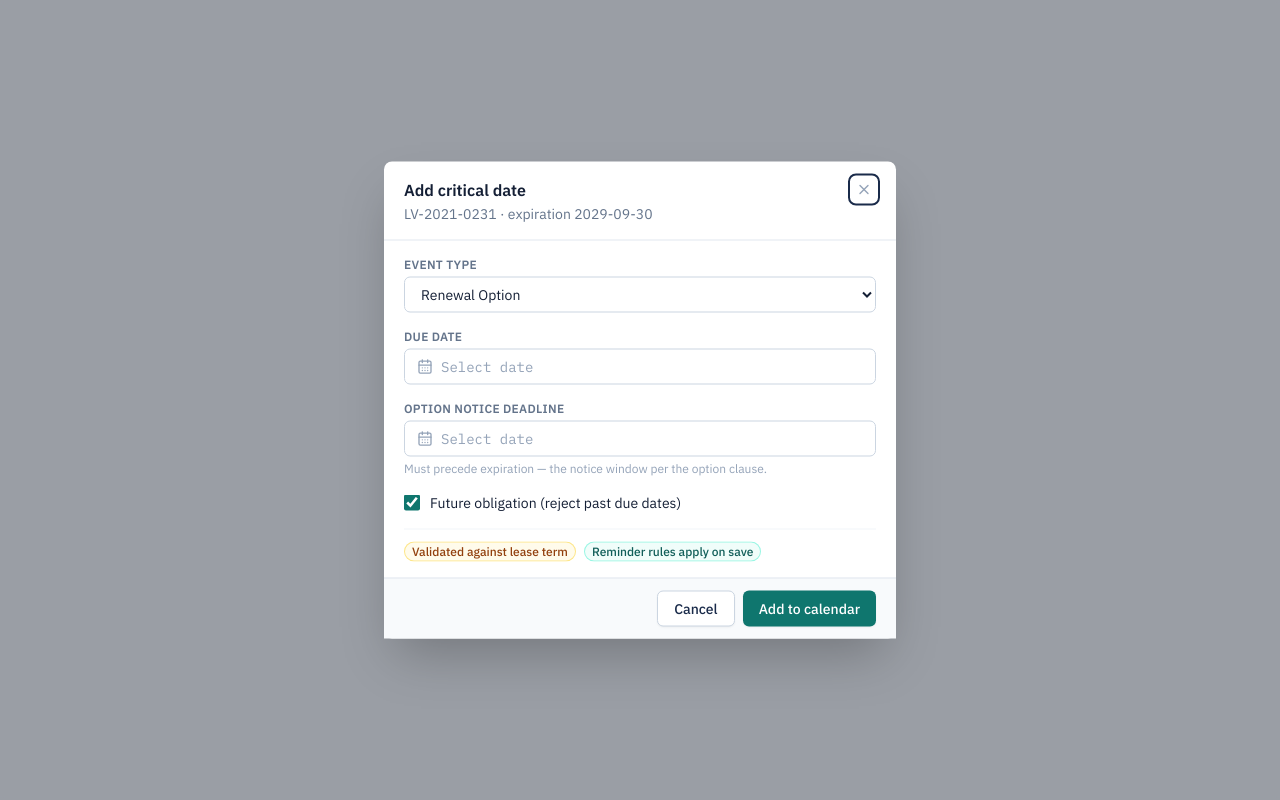
Test case: CriticalDateModal (entry validation) › rejects past due dates for future obligations
The width and height of the screenshot is (1280, 800).
Click the 1st button "Select date" at (487, 366), box x1=404 y1=348 x2=876 y2=384
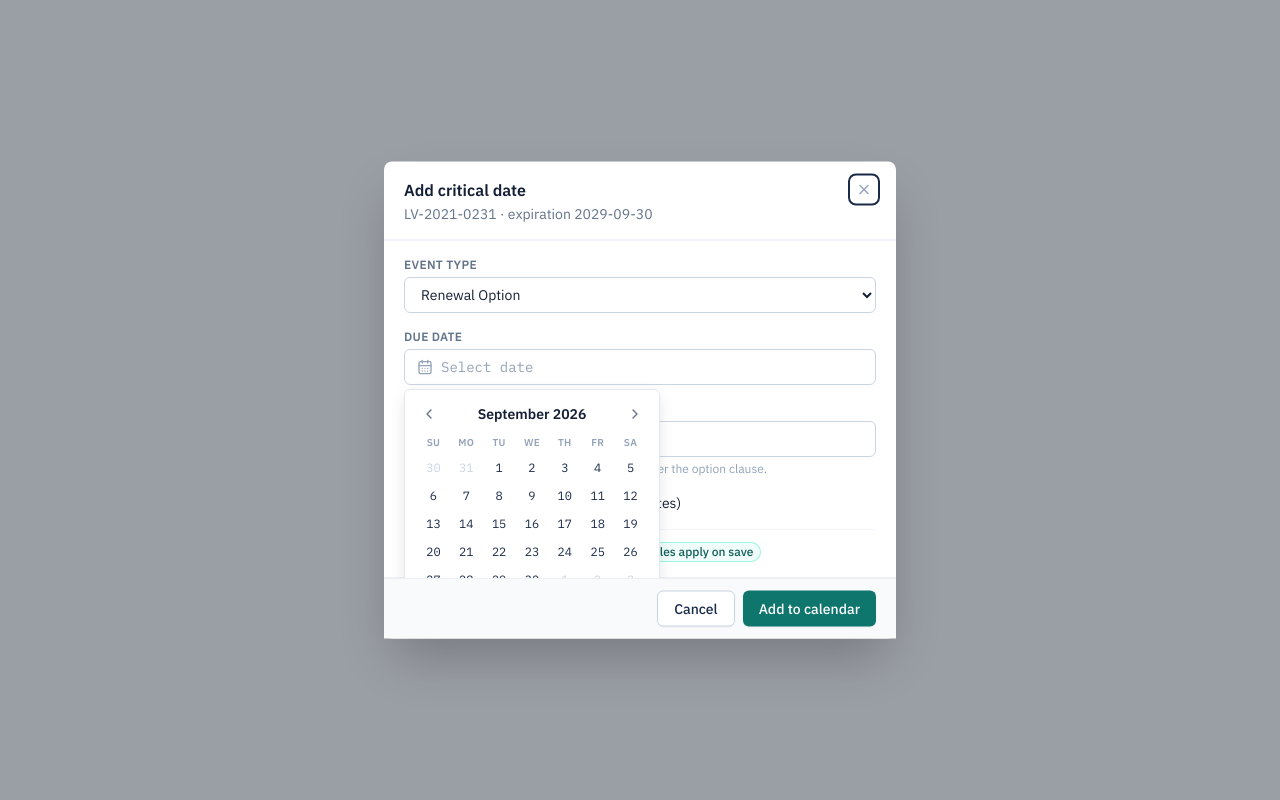
Click the button named "Previous month" at (429, 414), box x1=417 y1=402 x2=441 y2=426
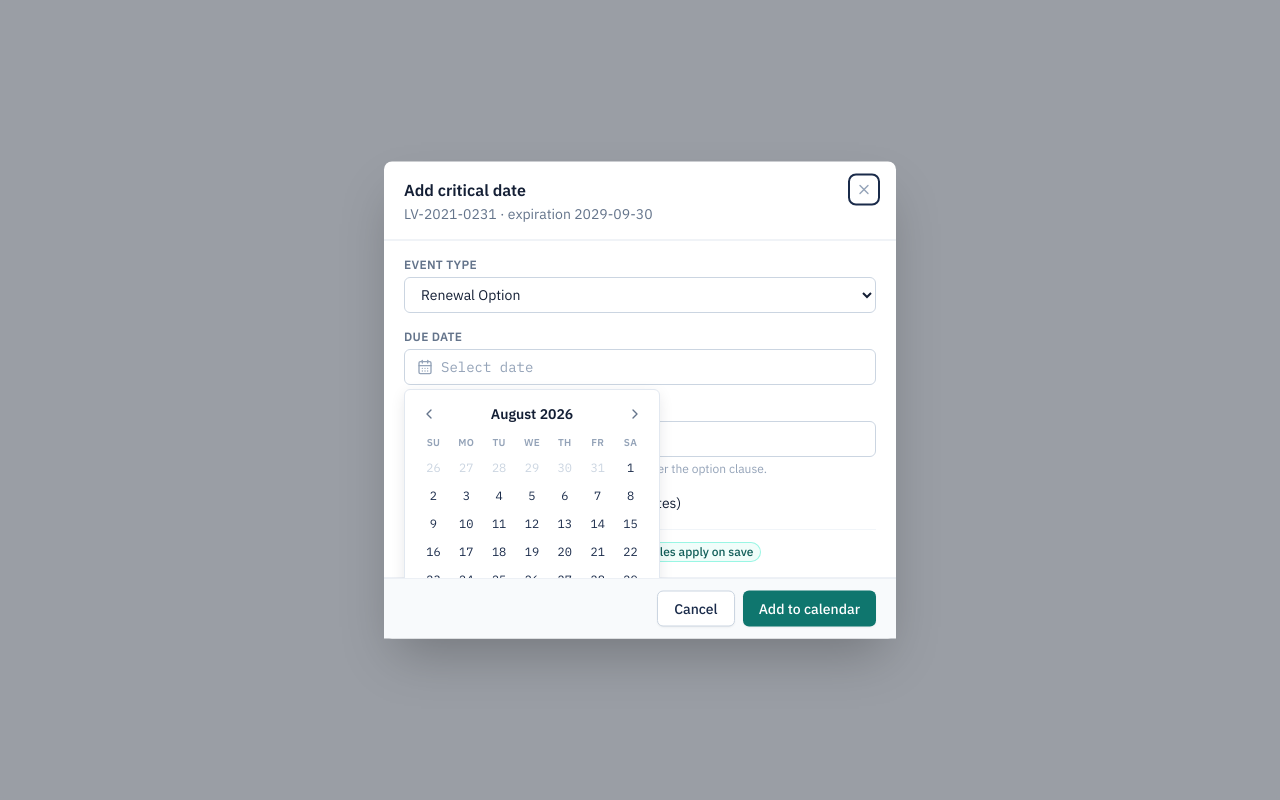
Click the button "15" at (630, 524), box x1=614 y1=510 x2=646 y2=538
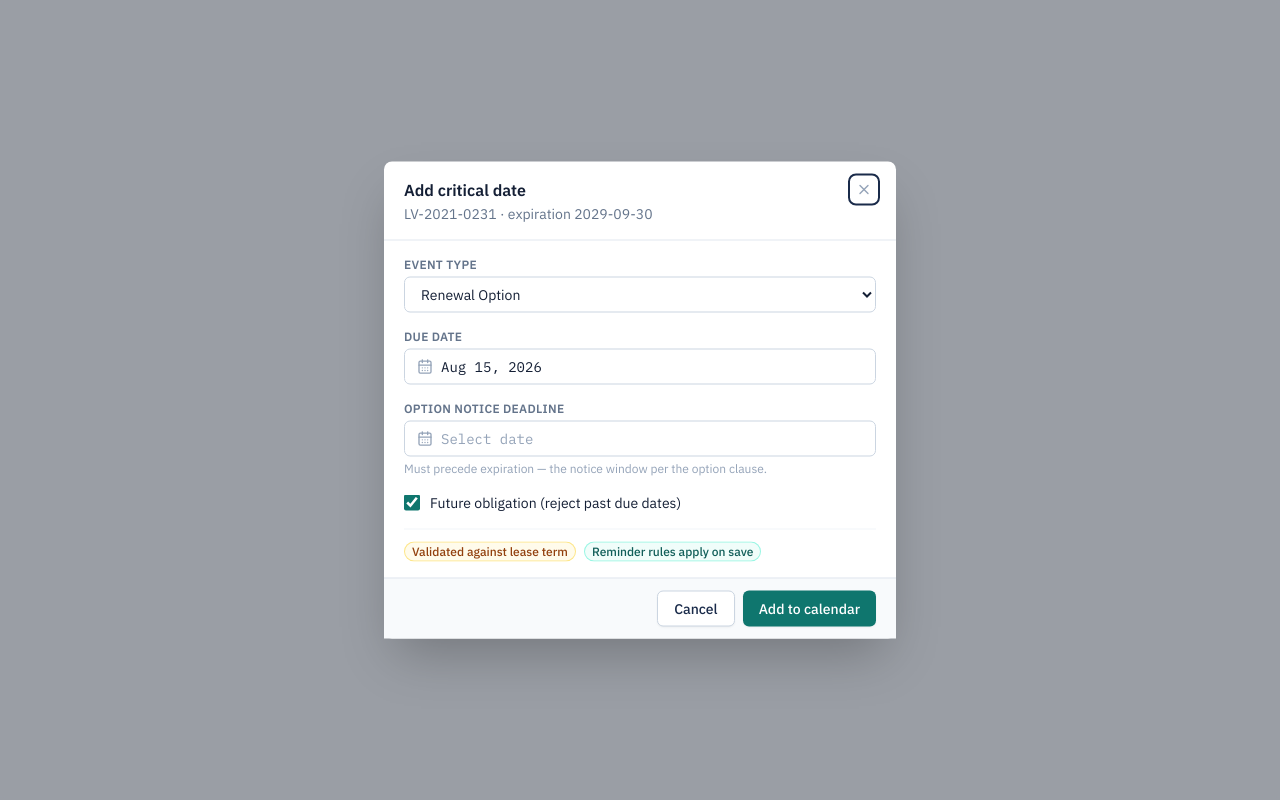
Submit the form with id "critical-date-form", box x1=404 y1=256 x2=876 y2=562
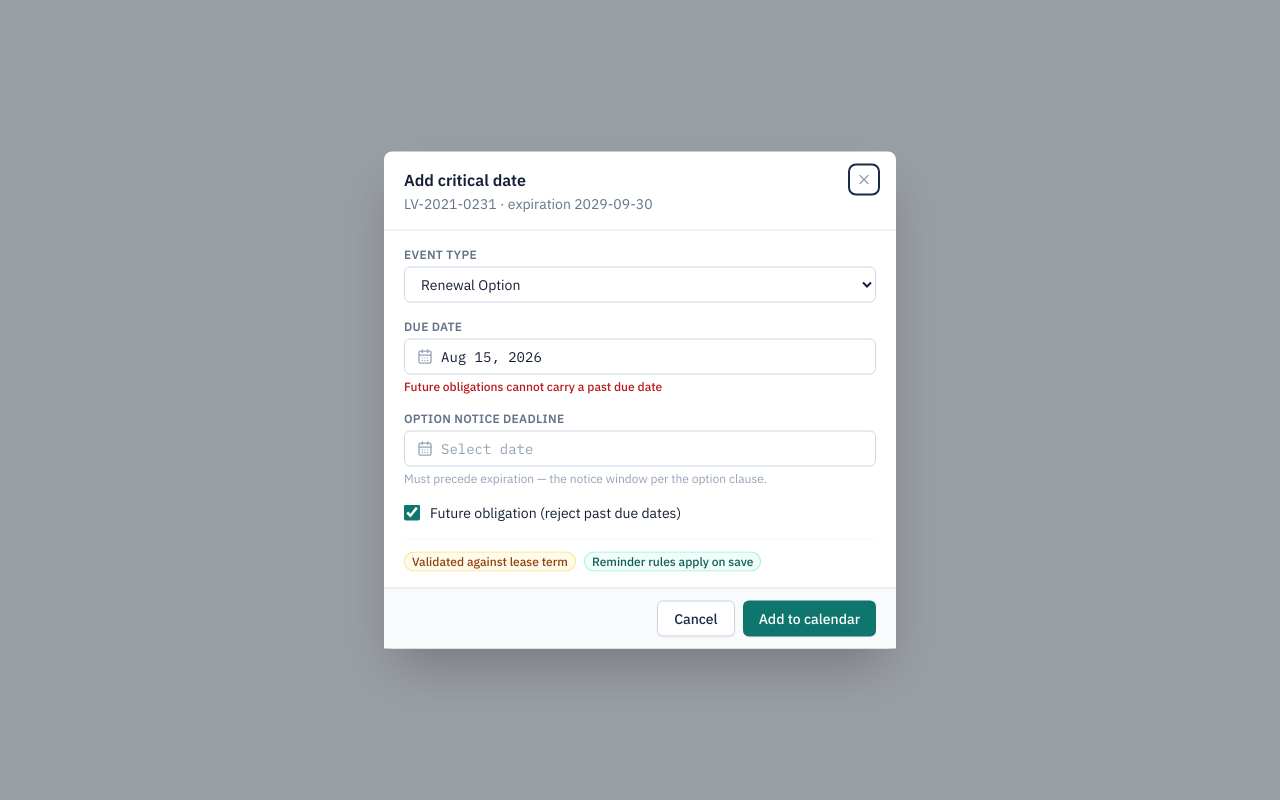
Check: the message reads "Future obligations cannot carry a past due date", box x1=404 y1=378 x2=662 y2=394
